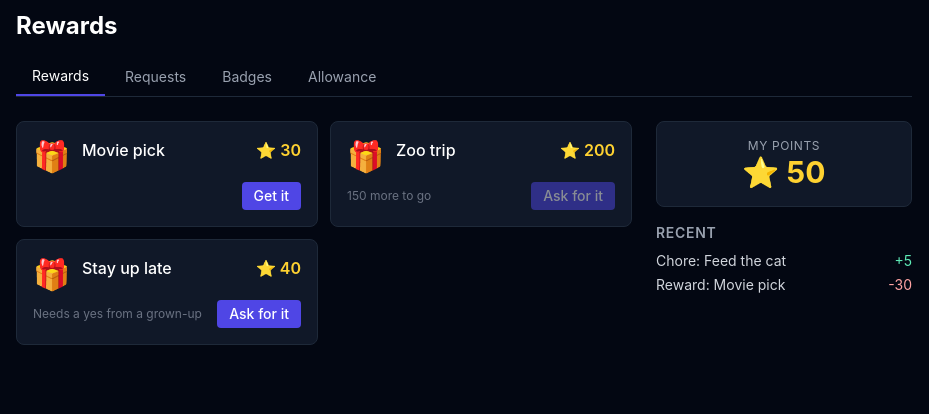
Scenario: RewardsPage › Rewards › shows the server's reason when buying fails
This screenshot has width=929, height=414.
Expected: the text "⭐ 50" is shown, [742,154,826,190]
Click the button with aria-label "Get: Movie pick": x=271, y=196 [242,182,301,210]
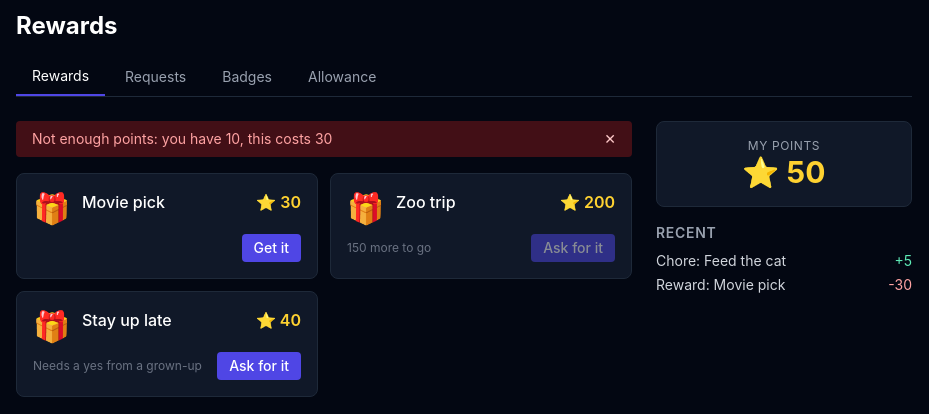
Expected: the text "Not enough points: you have 10, this costs 30" is shown, [32,129,332,149]
